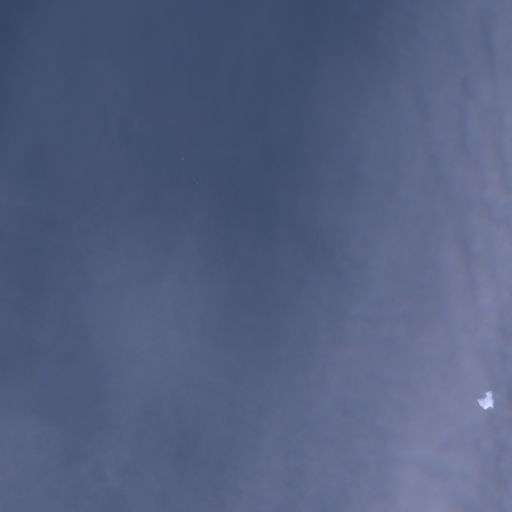Iceberg: (477, 391, 493, 409), (182, 158, 183, 159)
